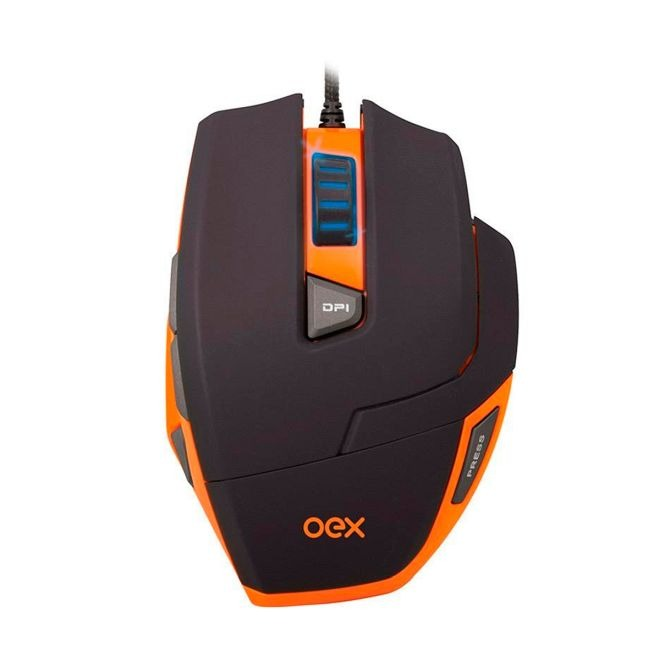mouse: (145, 61, 517, 612)
